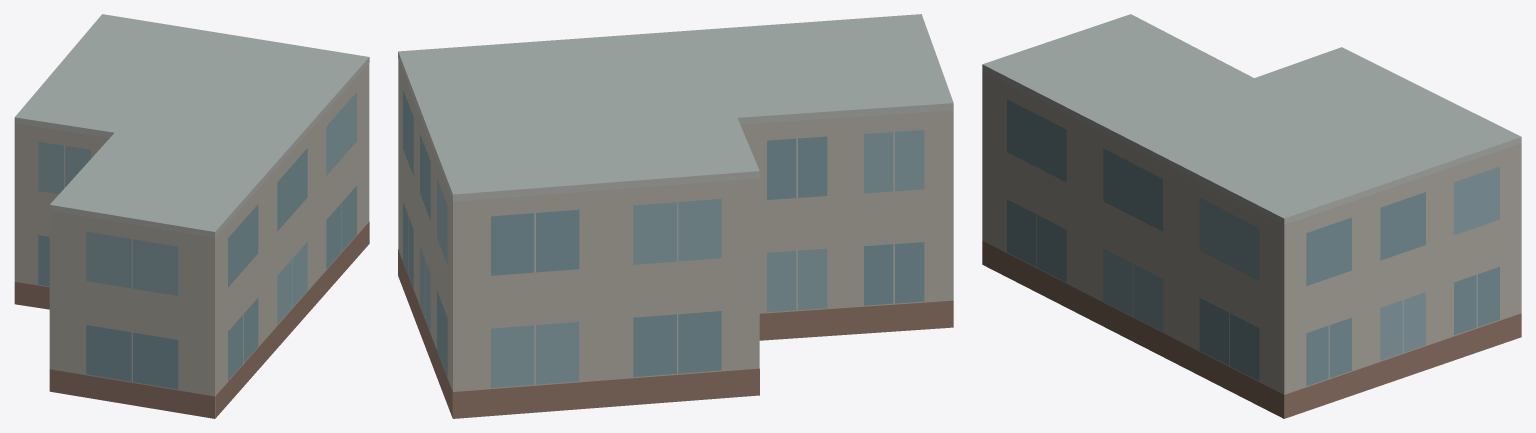
File: survey-upis-32708018.glb
3 views of the same model, side by side, from view 1: azimuth 30°, elevation 25°; view 2: azimuth 150°, elevation 25°; view 3: azimuth 270°, elevation 25° (orthographic). The views are drawn at different scales.
Visible parts, largest first — view 1: survey-upis-32708018.tmp; view 2: survey-upis-32708018.tmp; view 3: survey-upis-32708018.tmp.
Part boxes in pixels (x1,y1,x2,y2): survey-upis-32708018.tmp: (14,14,369,418); survey-upis-32708018.tmp: (398,14,953,418); survey-upis-32708018.tmp: (982,14,1521,418).
Bounding box in the file's own units: 16.88 × 7.7 × 18.8.
